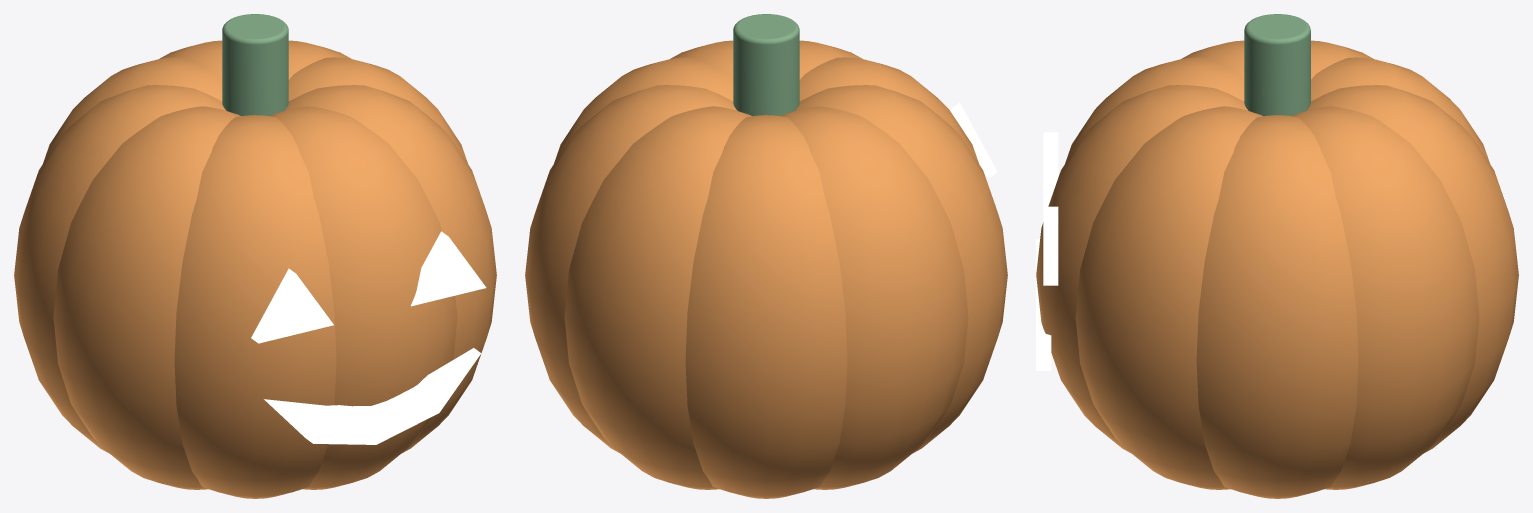
File: halloweenPumpkin.glb
3 renders of one model, left to right at view 1: azimuth 30°, elevation 25°; view 2: azimuth 150°, elevation 25°; view 3: azimuth 270°, elevation 25°, orthographic.
Visible parts, largest first — view 1: Pumpkin lobe.006, Pumpkin lobe.005, Pumpkin lobe.007, Pumpkin lobe.004, Pumpkin lobe.008, Pumpkin smile, Pumpkin stem, Pumpkin lobe, Pumpkin lobe.003, Carved triangle eye, Carved triangle eye.001, Pumpkin lobe.001 (+1 smaller); view 2: Pumpkin lobe.003, Pumpkin lobe.004, Pumpkin lobe.002, Pumpkin lobe.001, Pumpkin lobe.005, Pumpkin stem, Pumpkin lobe, Pumpkin lobe.006, Pumpkin lobe.007, Pumpkin lobe.008, Carved triangle eye; view 3: Pumpkin lobe, Pumpkin lobe.001, Pumpkin lobe.008, Pumpkin lobe.002, Pumpkin lobe.007, Pumpkin stem, Pumpkin lobe.006, Pumpkin lobe.003, Carved triangle eye.001, Pumpkin lobe.005, Carved triangle eye, Pumpkin lobe.004 (+1 smaller).
Part boxes in pixels (x1,y1,x2,y2): Pumpkin lobe.006: (174,115,336,498); Pumpkin lobe.005: (53,106,240,489); Pumpkin lobe.007: (270,106,457,489); Pumpkin lobe.004: (14,85,225,452); Pumpkin lobe.008: (284,85,496,452); Pumpkin smile: (264,348,481,444); Pumpkin stem: (222,14,288,116); Pumpkin lobe: (288,57,467,163); Pumpkin lobe.003: (43,57,222,163); Carved triangle eye: (251,268,333,343); Carved triangle eye.001: (411,231,486,306); Pumpkin lobe.001: (288,40,351,79); Pumpkin lobe.003: (685,115,847,498); Pumpkin lobe.004: (781,106,968,489); Pumpkin lobe.002: (564,106,751,489); Pumpkin lobe.001: (525,85,737,452); Pumpkin lobe.005: (796,85,1007,452); Pumpkin stem: (733,14,799,116); Pumpkin lobe: (554,57,733,163); Pumpkin lobe.006: (799,57,978,163); Pumpkin lobe.007: (799,40,862,79); Pumpkin lobe.008: (670,40,733,79); Carved triangle eye: (950,102,997,177); Pumpkin lobe: (1196,115,1358,498); Pumpkin lobe.001: (1292,106,1479,489); Pumpkin lobe.008: (1075,106,1262,489); Pumpkin lobe.002: (1306,85,1518,452); Pumpkin lobe.007: (1036,85,1248,452); Pumpkin stem: (1244,14,1310,116); Pumpkin lobe.006: (1065,57,1244,163); Pumpkin lobe.003: (1311,57,1489,163); Carved triangle eye.001: (1043,206,1058,285); Pumpkin lobe.005: (1181,40,1244,79); Carved triangle eye: (1043,132,1058,206); Pumpkin lobe.004: (1311,40,1373,79).
Bounding box in the file's own units: 0.791 × 0.77 × 0.7957.
